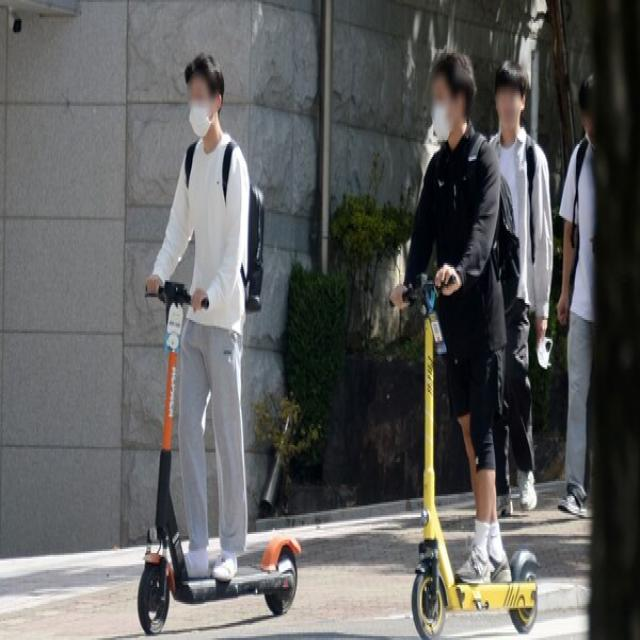non-helmet: (118, 0, 308, 640), (372, 4, 554, 640)
